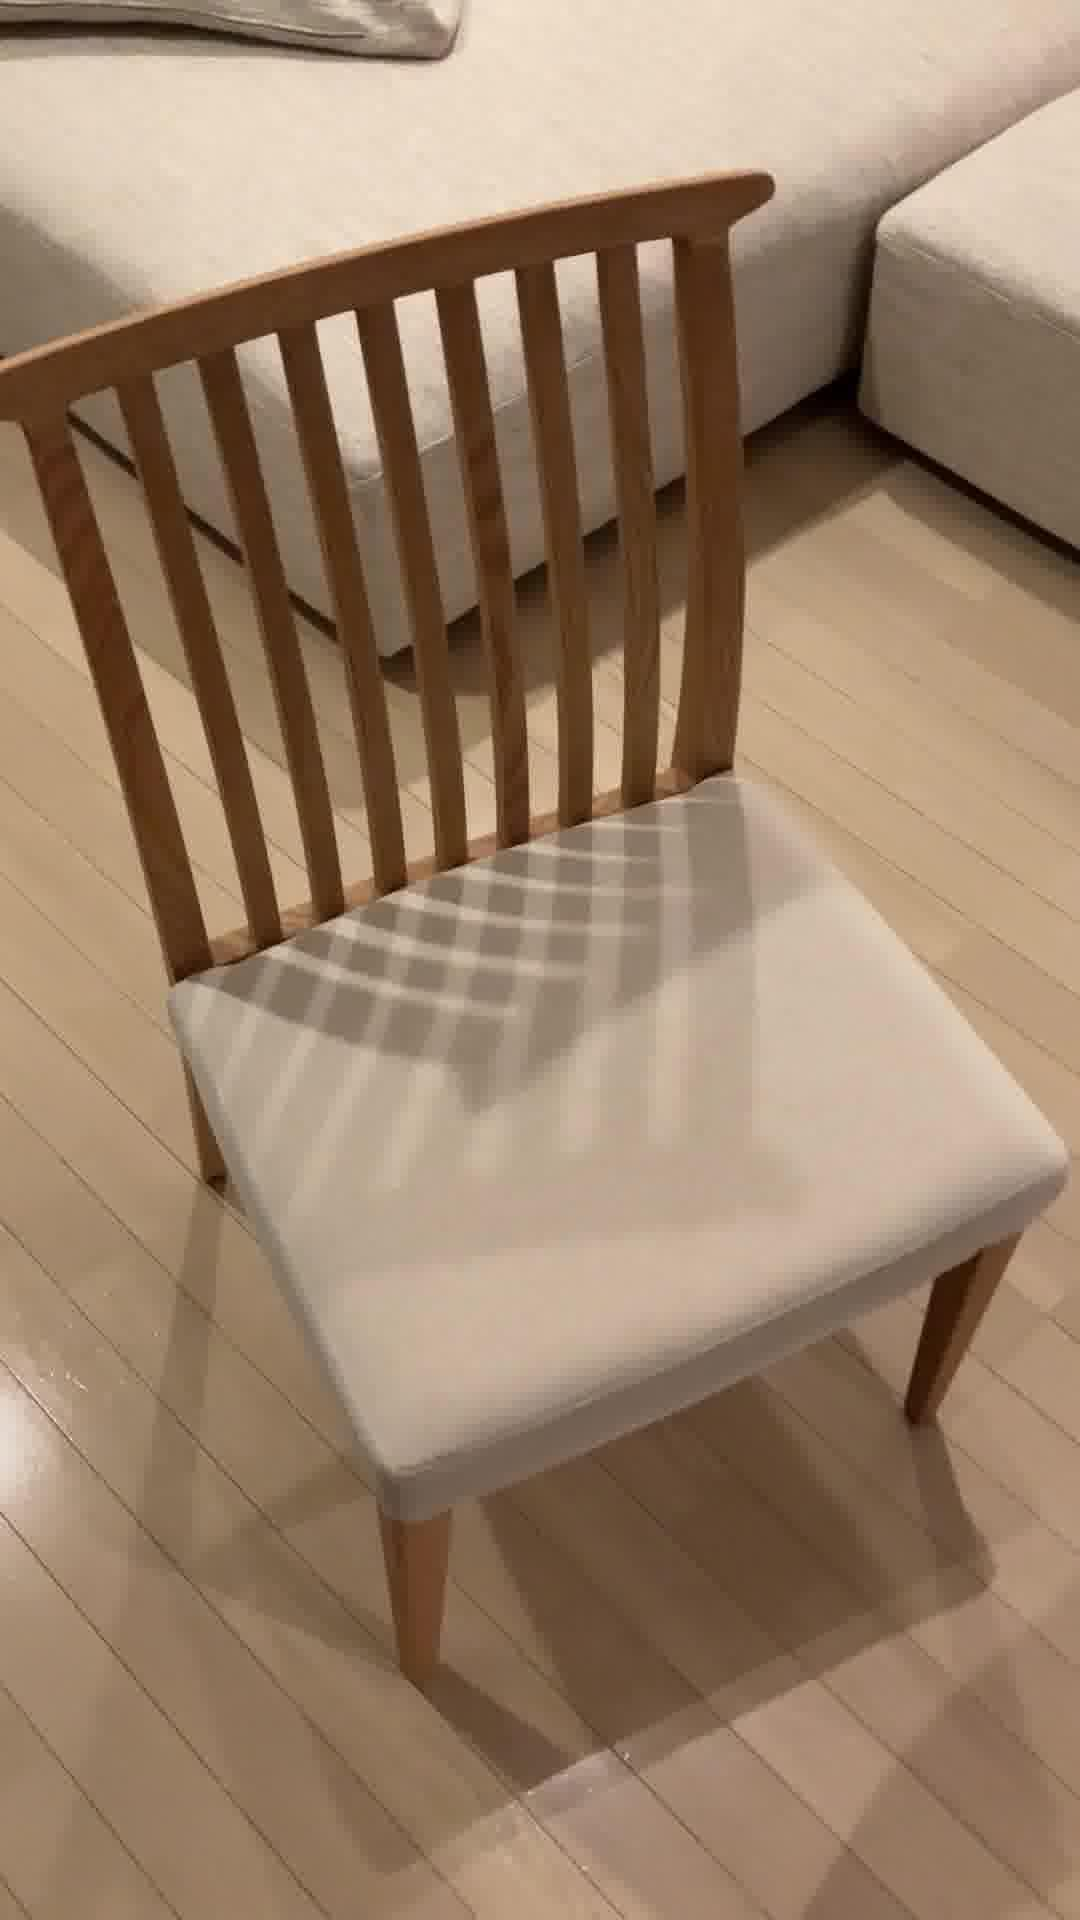takumikan-chair: (0, 164, 1080, 1696)
